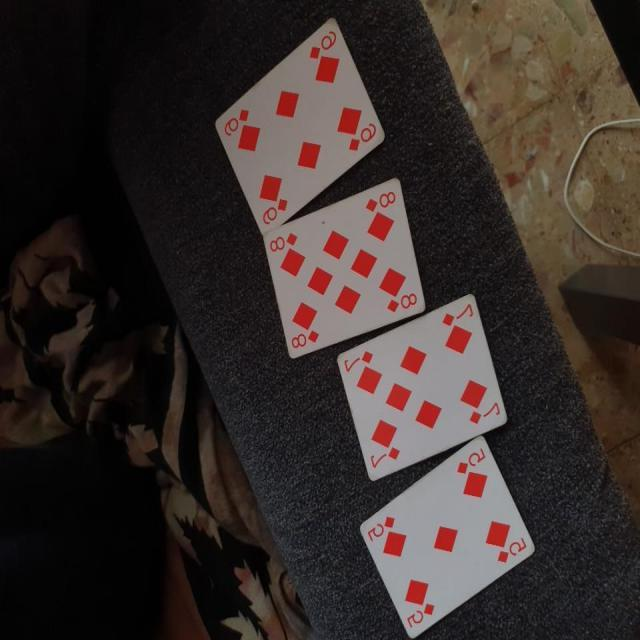5 of diamonds: (360, 436, 539, 636)
6 of diamonds: (214, 13, 390, 242)
7 of diamonds: (337, 294, 510, 486)
8 of diamonds: (263, 176, 428, 362)
